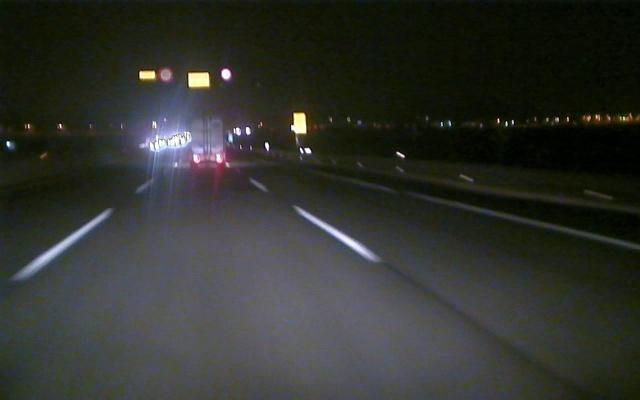lane: (421, 196, 637, 251), (255, 181, 384, 262), (4, 207, 111, 284)
